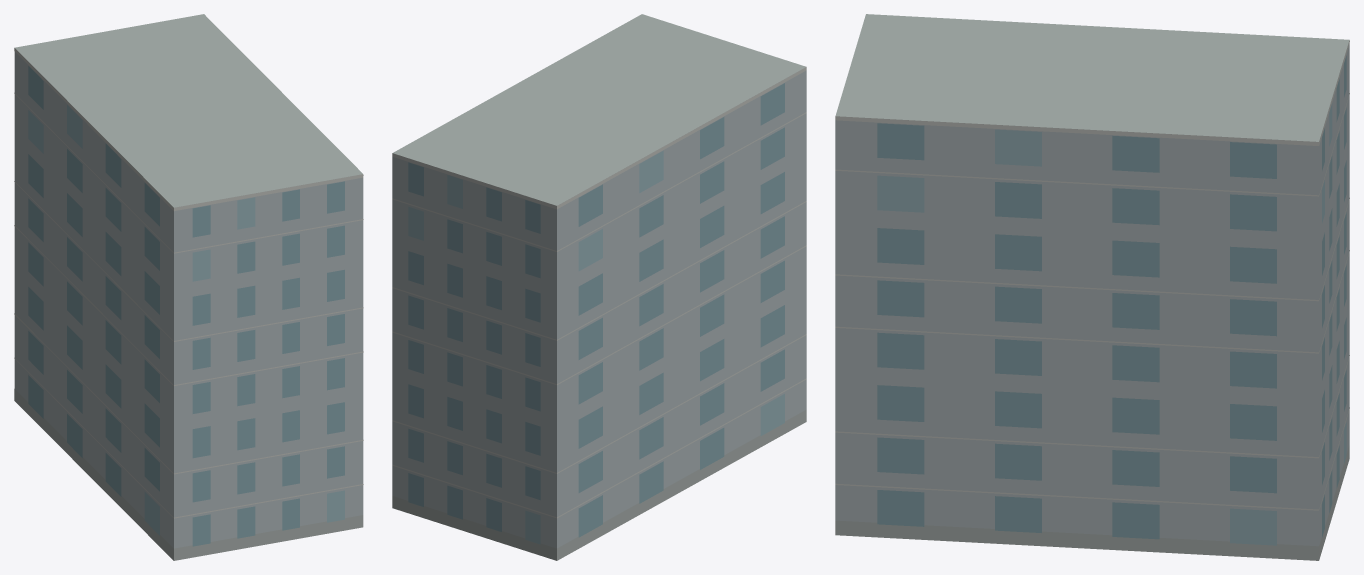
File: residential-a6bcefe4-d207-4658-9d8b-51d8db62b8bc.glb
3 renders of one model, left to right at view 1: azimuth 30°, elevation 25°; view 2: azimuth 150°, elevation 25°; view 3: azimuth 270°, elevation 25°, orthographic. The views are drawn at different scales.
Visible parts, largest first — view 1: residential-a6bcefe4-d207-4658-9d8b-51d8db62b8bc.tmp; view 2: residential-a6bcefe4-d207-4658-9d8b-51d8db62b8bc.tmp; view 3: residential-a6bcefe4-d207-4658-9d8b-51d8db62b8bc.tmp.
Boxes of the visible parts, <box> form: residential-a6bcefe4-d207-4658-9d8b-51d8db62b8bc.tmp: <box>14,14,363,560</box>; residential-a6bcefe4-d207-4658-9d8b-51d8db62b8bc.tmp: <box>392,14,806,560</box>; residential-a6bcefe4-d207-4658-9d8b-51d8db62b8bc.tmp: <box>835,14,1349,560</box>.
Bounding box in the file's own units: 16.01 × 24.4 × 27.17.
